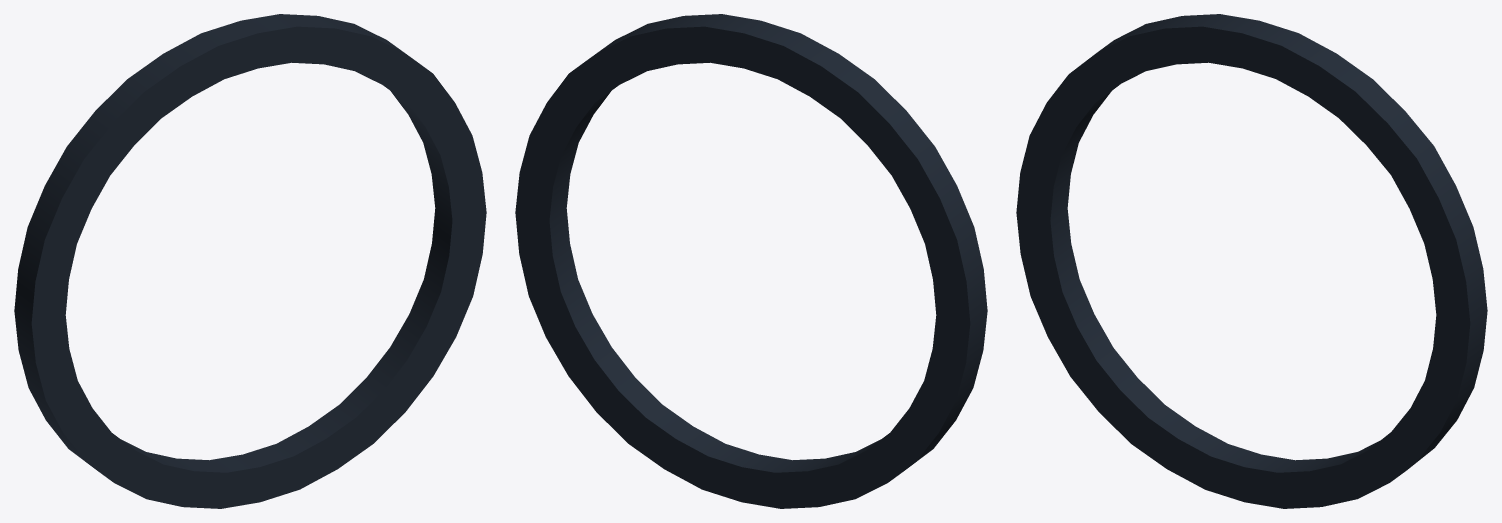
The picture shows the model from 3 angles, left to right: view 1: azimuth 30°, elevation 25°; view 2: azimuth 150°, elevation 25°; view 3: azimuth 330°, elevation 25°; orthographic projection.
Parts seen in each view (by area): view 1: bg_circle_01_LO; view 2: bg_circle_01_LO; view 3: bg_circle_01_LO.
Part boxes in pixels (x1,y1,x2,y2): bg_circle_01_LO: (14,14,486,508); bg_circle_01_LO: (515,14,987,508); bg_circle_01_LO: (1016,14,1487,508).
Size of the model in its own units: 4367 by 4306 by 287.
